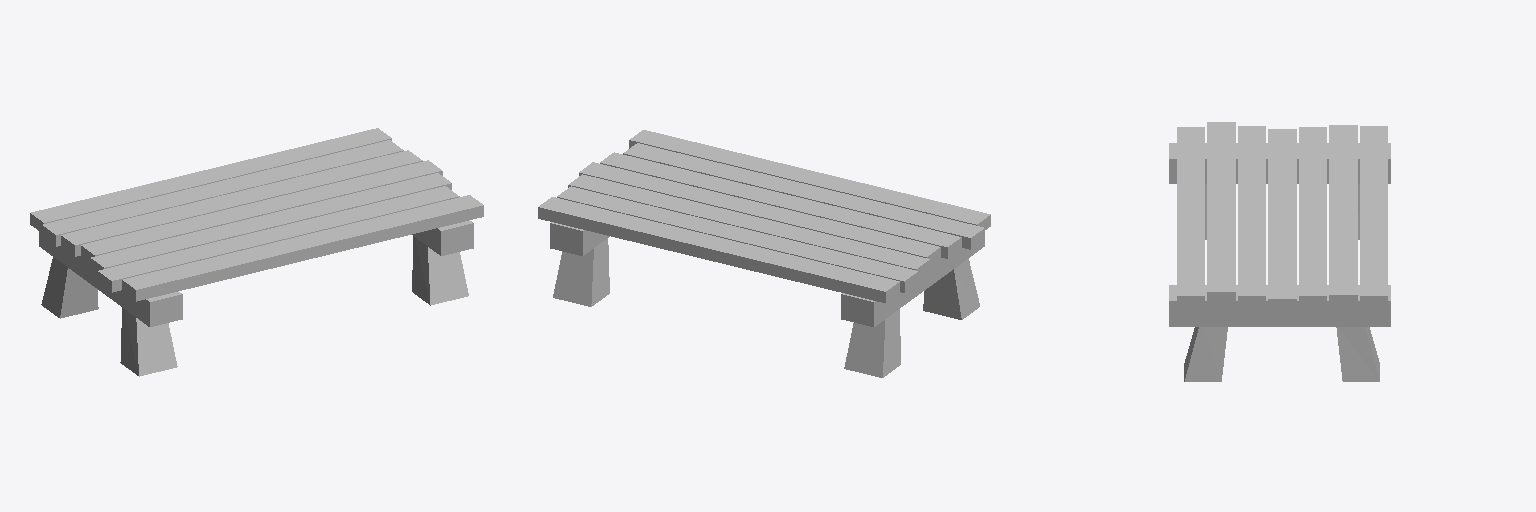
The model's file is Table.obj.
The picture shows the model from 3 angles: view 1: azimuth 30°, elevation 25°; view 2: azimuth 150°, elevation 25°; view 3: azimuth 270°, elevation 25°; orthographic projection.
Visible parts, largest first — view 1: group1 pCube1, group1 pCube2, group1 pCube5, group1 pCube6, group1 pCube3, group1 pCube4, pCube7 group1, group1 pCube10, group1 pCube13, group1 pCube9, group1 pCube12, group1 pCube8; view 2: pCube7 group1, group1 pCube2, group1 pCube3, group1 pCube6, group1 pCube1, group1 pCube4, group1 pCube5, group1 pCube11, group1 pCube12, group1 pCube9, group1 pCube13, group1 pCube8; view 3: group1 pCube2, group1 pCube6, group1 pCube4, pCube7 group1, group1 pCube3, group1 pCube5, group1 pCube1, group1 pCube8, group1 pCube10, group1 pCube11, group1 pCube9.
Part boxes in pixels (bbox=[...]): group1 pCube1: bbox=[122, 195, 483, 301]; group1 pCube2: bbox=[97, 186, 459, 292]; group1 pCube5: bbox=[61, 150, 422, 256]; group1 pCube6: bbox=[42, 140, 403, 246]; group1 pCube3: bbox=[90, 173, 451, 273]; group1 pCube4: bbox=[81, 160, 442, 262]; pCube7 group1: bbox=[30, 128, 391, 232]; group1 pCube10: bbox=[412, 236, 468, 305]; group1 pCube13: bbox=[120, 307, 177, 376]; group1 pCube9: bbox=[39, 231, 182, 326]; group1 pCube12: bbox=[41, 257, 98, 318]; group1 pCube8: bbox=[412, 220, 473, 255]; pCube7 group1: bbox=[538, 197, 899, 302]; group1 pCube2: bbox=[623, 143, 984, 249]; group1 pCube3: bbox=[600, 152, 961, 258]; group1 pCube6: bbox=[557, 186, 918, 292]; group1 pCube1: bbox=[629, 130, 990, 229]; group1 pCube4: bbox=[579, 162, 940, 265]; group1 pCube5: bbox=[568, 174, 929, 278]; group1 pCube11: bbox=[553, 238, 609, 306]; group1 pCube12: bbox=[844, 309, 900, 377]; group1 pCube9: bbox=[841, 240, 984, 326]; group1 pCube13: bbox=[923, 258, 979, 319]; group1 pCube8: bbox=[550, 222, 609, 255]; group1 pCube2: bbox=[1207, 122, 1235, 303]; group1 pCube6: bbox=[1329, 125, 1357, 305]; group1 pCube4: bbox=[1268, 129, 1296, 309]; pCube7 group1: bbox=[1360, 126, 1387, 307]; group1 pCube3: bbox=[1238, 126, 1265, 307]; group1 pCube5: bbox=[1299, 127, 1326, 307]; group1 pCube1: bbox=[1177, 127, 1204, 307]; group1 pCube8: bbox=[1169, 285, 1390, 326]; group1 pCube10: bbox=[1184, 327, 1227, 381]; group1 pCube11: bbox=[1336, 327, 1379, 381]; group1 pCube9: bbox=[1169, 143, 1390, 183].
Size of the model in its own units: 2.69 by 0.6491 by 1.43.